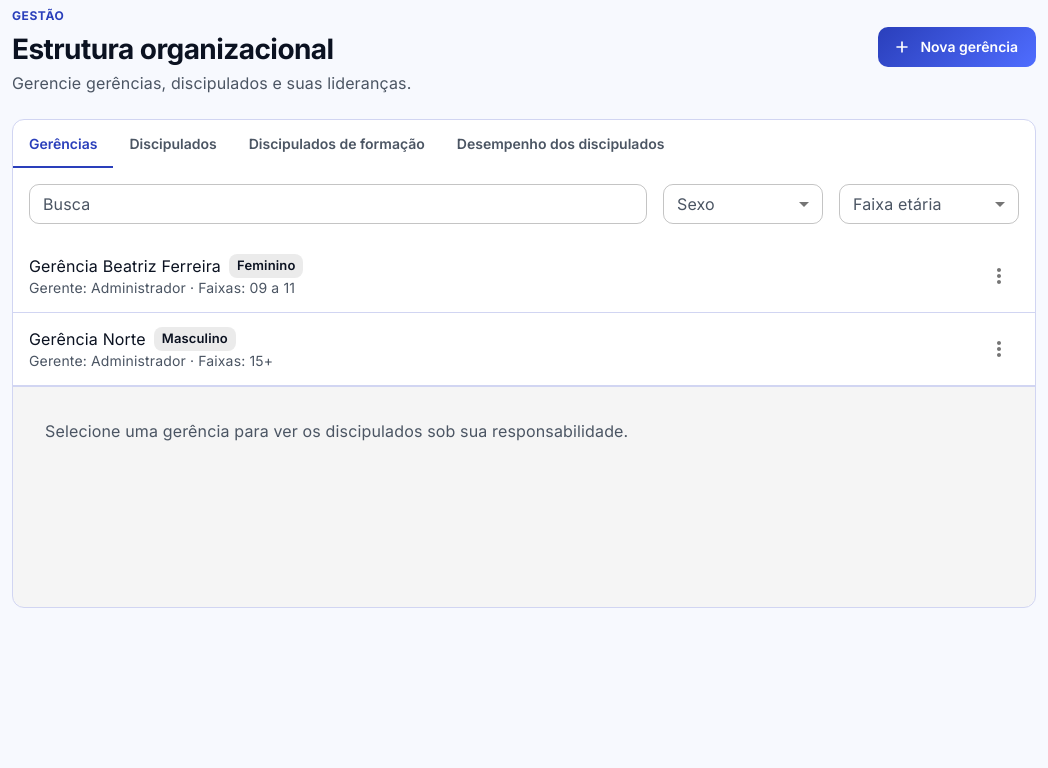
Test: estrutura organizacional — co-líderes › filtra gerências e discipulados por trecho do nome
Expected: the text "Gerência Beatriz Ferreira" is shown, [29, 254, 221, 278]
Expected: the text "Gerência Norte" is shown, [29, 327, 146, 351]
In the field with placeholder "Nome ou parte do nome": (338, 204) [29, 184, 647, 224], type "Beatriz"
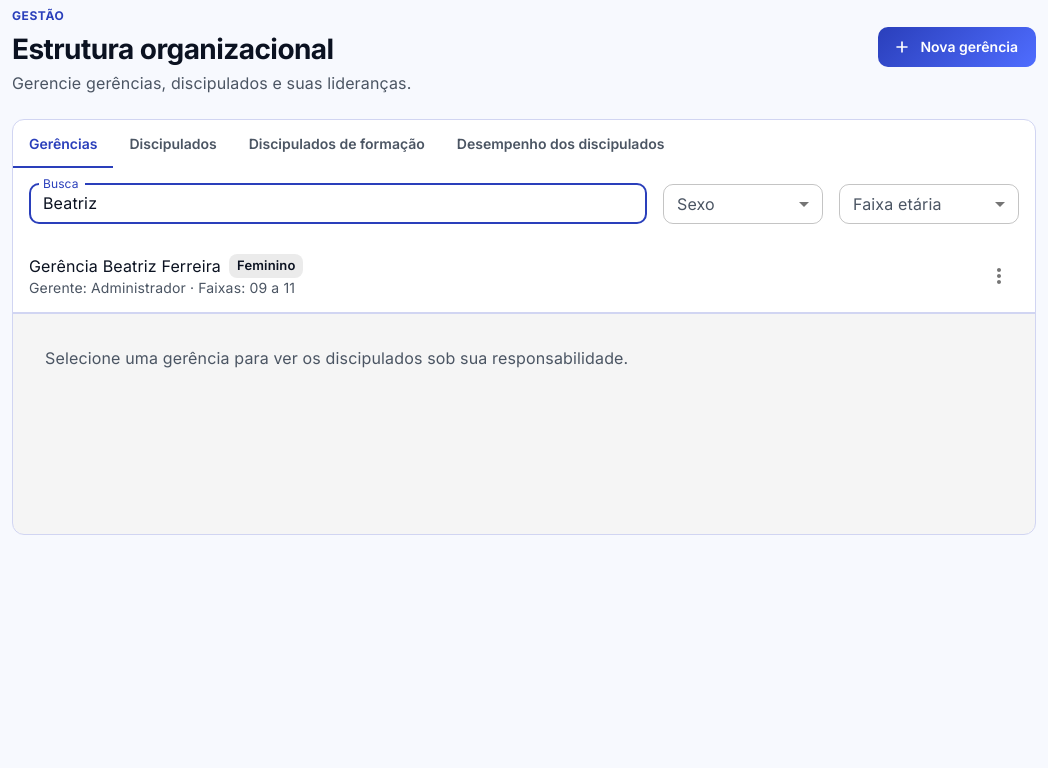
Expected: the text "Gerência Beatriz Ferreira" is shown, [29, 254, 221, 278]
Expected: the button "Gerência Norte" is gone
Clear the field with placeholder "Nome ou parte do nome": (338, 204) [29, 184, 647, 224]
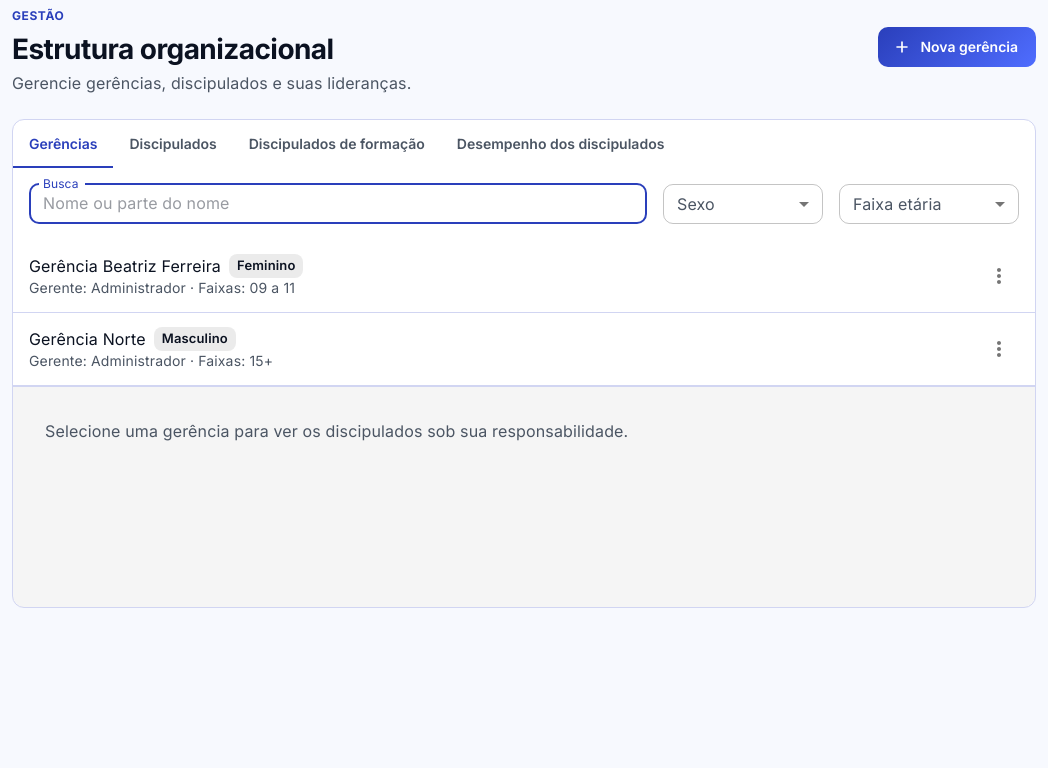
Click the tab "Discipulados": (173, 144) [113, 120, 233, 168]
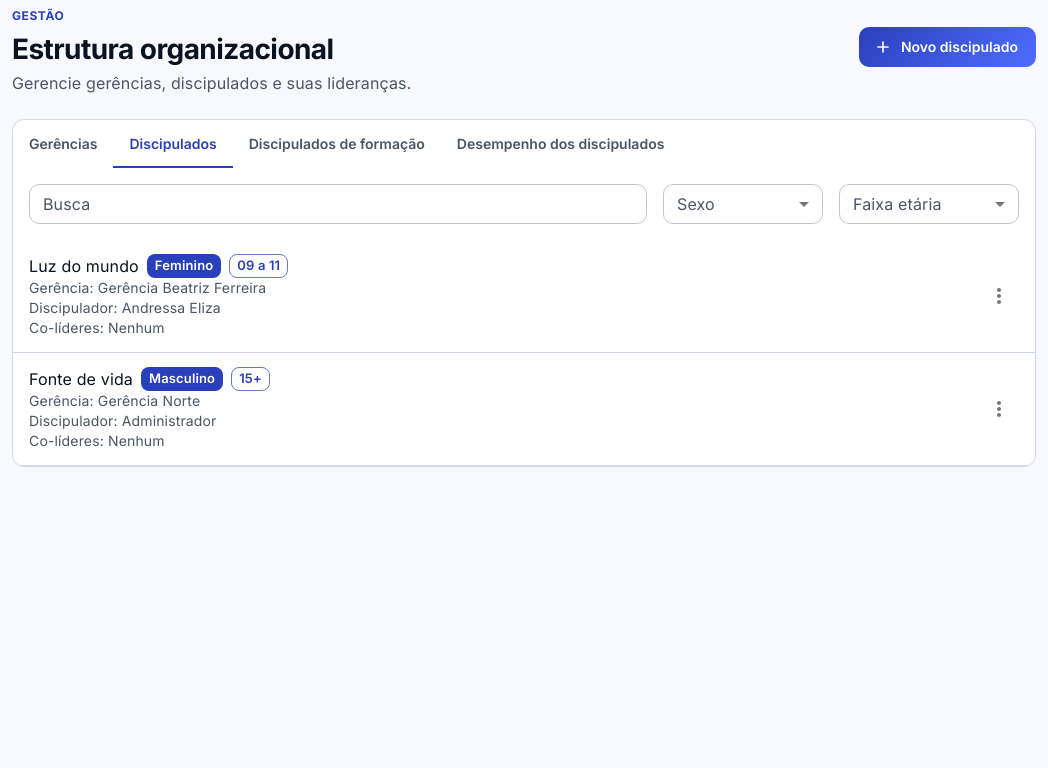
Expected: the text "Luz do mundo" is shown, [29, 254, 139, 278]
Expected: the text "Fonte de vida" is shown, [29, 367, 133, 391]
In the field with placeholder "Nome ou parte do nome": (338, 204) [29, 184, 647, 224], type "andressa"
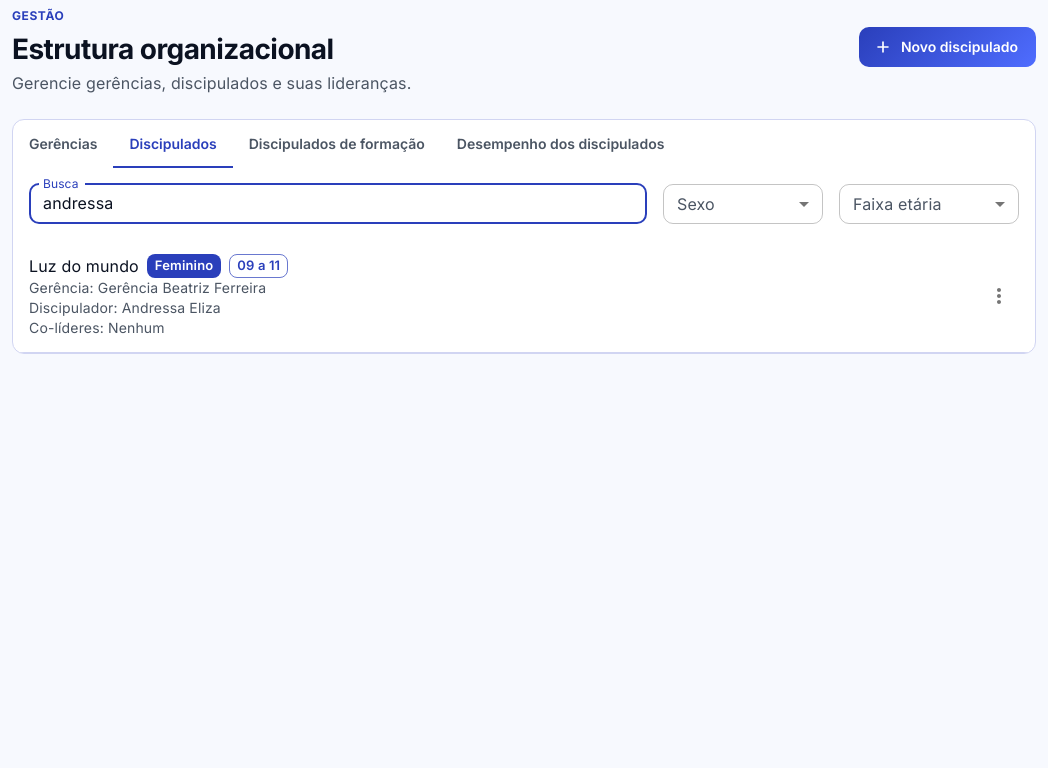
Expected: the text "Luz do mundo" is shown, [29, 254, 139, 278]
Expected: the text "Fonte de vida" is gone
